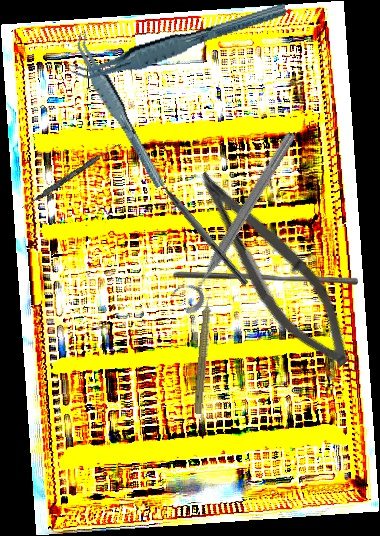Chopper: (147, 164, 257, 288)
Fixation Ring: (165, 122, 303, 318)
Handpiece: (191, 288, 218, 415)
Micro Scissor: (172, 158, 373, 381)
Pusher: (172, 271, 359, 285)
Spatula Surgical: (21, 139, 122, 212)
Tissue Forceps: (65, 2, 292, 83), (72, 24, 166, 197)
